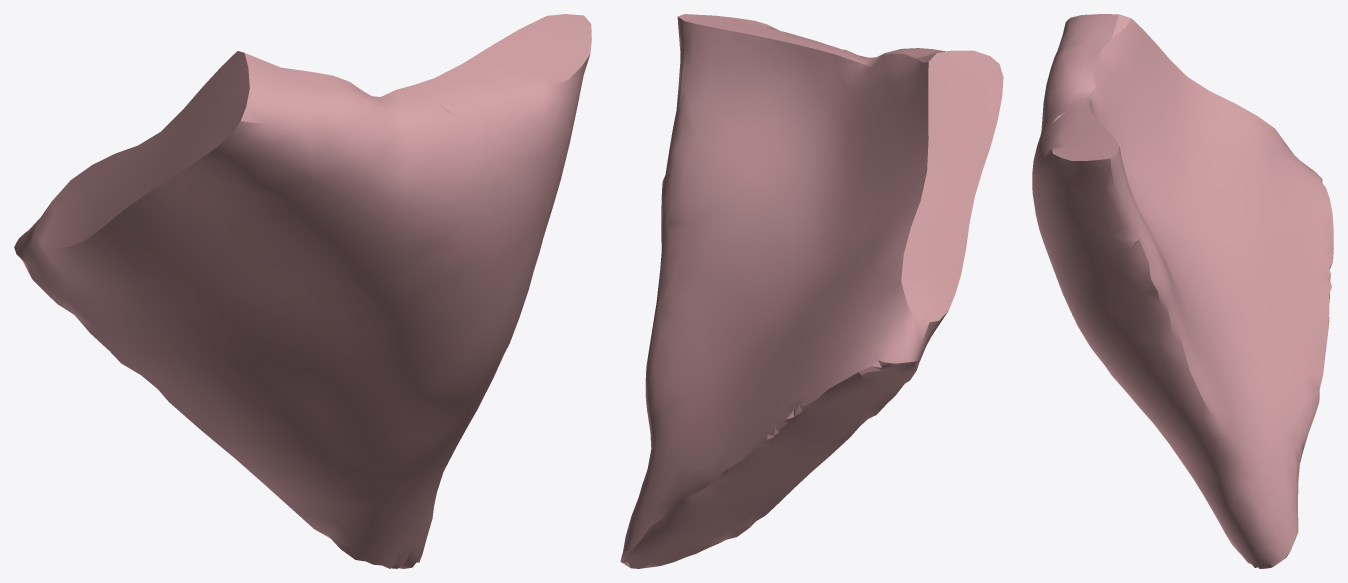
The model's file is fma78481-r_mm3491m.glb.
3 views of the same model, side by side, from view 1: azimuth 30°, elevation 25°; view 2: azimuth 150°, elevation 25°; view 3: azimuth 270°, elevation 25° (orthographic). The views are drawn at different scales.
Parts seen in each view (by area): view 1: FMA78481-R_MM3491M; view 2: FMA78481-R_MM3491M; view 3: FMA78481-R_MM3491M.
Boxes of the visible parts, left/top/right/bottom form: FMA78481-R_MM3491M: left=14, top=14, right=591, bottom=568; FMA78481-R_MM3491M: left=620, top=14, right=1003, bottom=568; FMA78481-R_MM3491M: left=1032, top=14, right=1333, bottom=568.
Size of the model in its own units: 0.00369 by 0.00521 by 0.0031.
